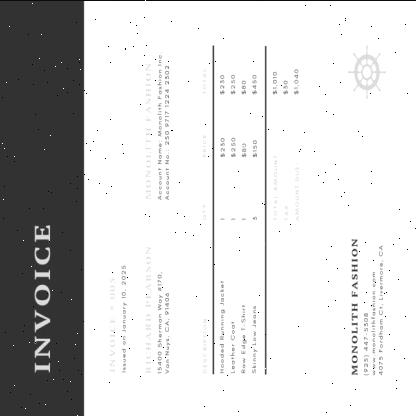Paragraph: (350, 234, 386, 378), (271, 64, 302, 224), (144, 49, 172, 203), (144, 244, 172, 376), (32, 222, 52, 374), (108, 262, 128, 374)
Table: (200, 43, 266, 378)
